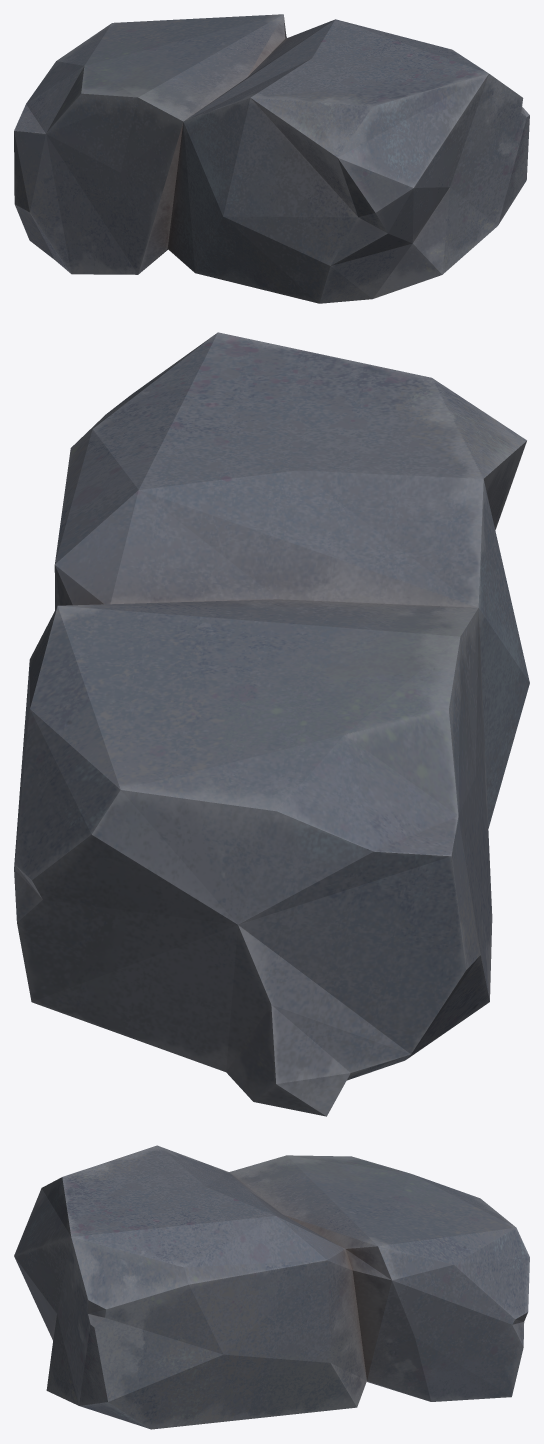
Rendered from stylized_rock_63.fbx.
3 renders of one model, top to bottom at view 1: azimuth 30°, elevation 25°; view 2: azimuth 150°, elevation 25°; view 3: azimuth 270°, elevation 25°, orthographic. The views are drawn at different scales.
Visible parts, largest first — view 1: stylized_rock_63; view 2: stylized_rock_63; view 3: stylized_rock_63.
Part boxes in pixels (x1,y1,x2,y2): stylized_rock_63: (14, 14, 529, 303); stylized_rock_63: (14, 332, 529, 1116); stylized_rock_63: (14, 1145, 529, 1429).
Size of the model in its own units: 163 by 107 by 195.
